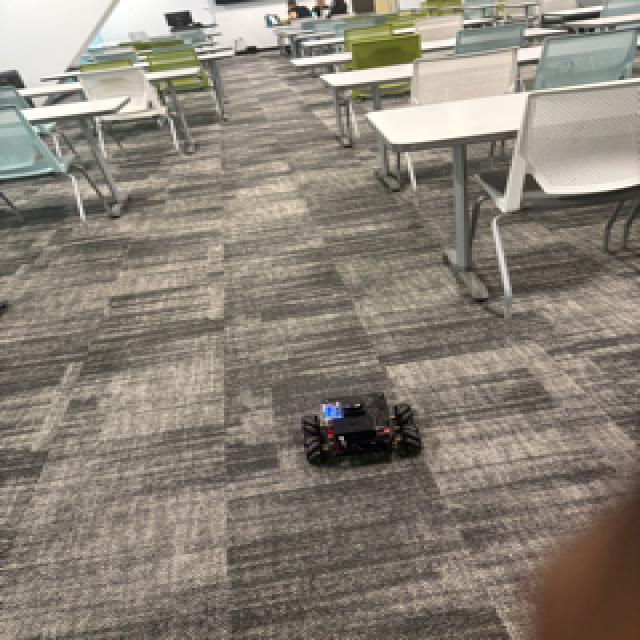ArduinoCar3: (299, 392, 426, 468)
